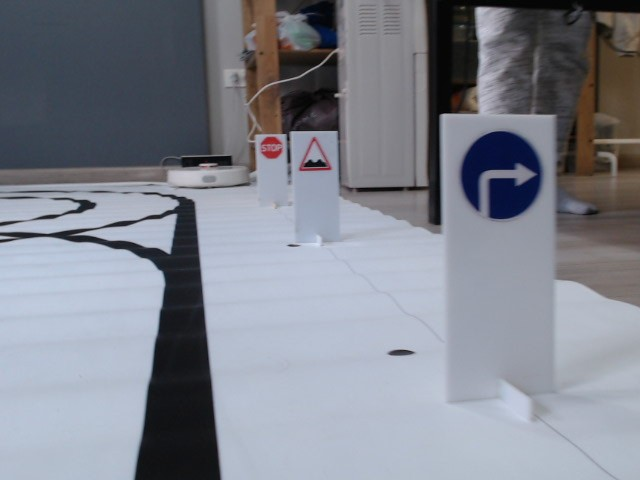Nerov: (297, 137, 332, 172)
Right: (455, 127, 545, 221)
Stop: (260, 135, 285, 160)
